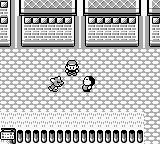leer: (1, 128, 16, 143)
main: (65, 61, 79, 75)
no-caminable: (19, 0, 76, 46), (83, 0, 140, 46), (17, 129, 143, 143), (148, 0, 159, 47), (0, 0, 11, 47)
npc: (49, 77, 64, 91), (82, 76, 95, 92)
